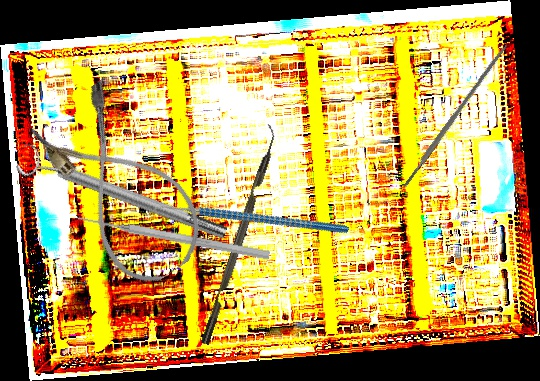Cannula: (24, 75, 219, 297)
Chopper: (144, 144, 350, 299), (190, 123, 283, 345)
Fixation Ring: (14, 139, 231, 252)
Pusher: (75, 211, 271, 262)
Scalpel Handle: (401, 43, 509, 188)
